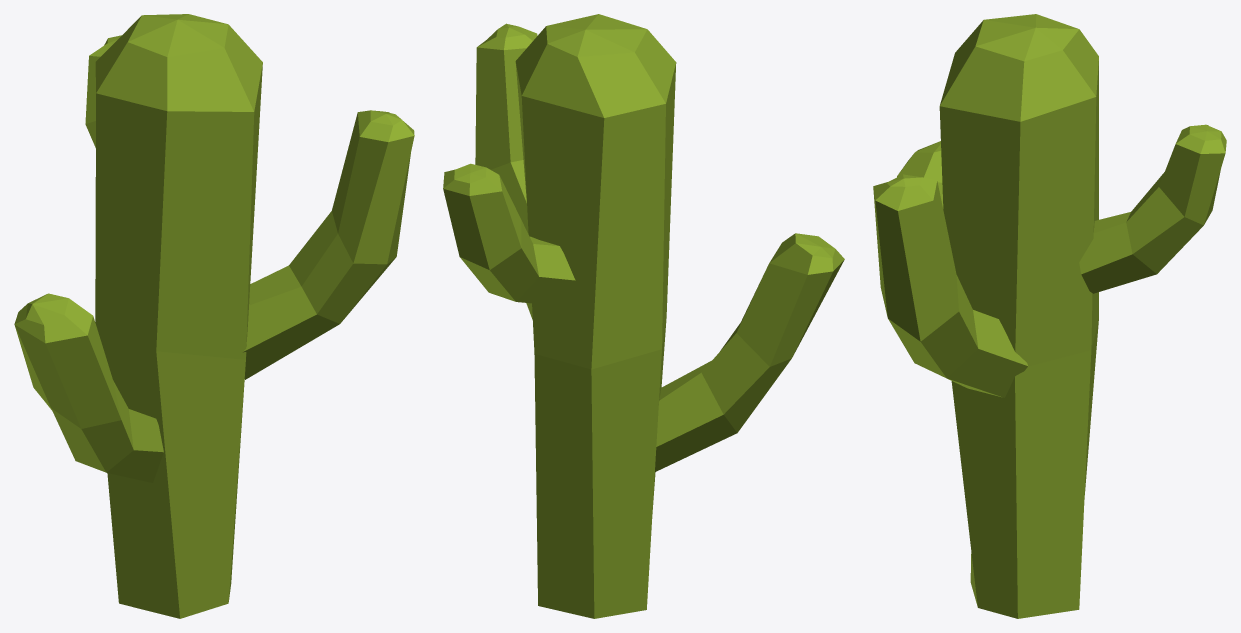
Rendered from Desert_NotWalkable01.fbx.
The picture shows the model from 3 angles, left to right: view 1: azimuth 30°, elevation 25°; view 2: azimuth 150°, elevation 25°; view 3: azimuth 270°, elevation 25°; orthographic projection.
Visible parts, largest first — view 1: Desert_NotWalkable01; view 2: Desert_NotWalkable01; view 3: Desert_NotWalkable01.
Boxes of the visible parts, box(x1,y1,x2,y2) form: Desert_NotWalkable01: box(14, 14, 414, 618); Desert_NotWalkable01: box(443, 14, 844, 618); Desert_NotWalkable01: box(873, 14, 1226, 618).
Size of the model in its own units: 1.02 by 1.48 by 0.8348.
